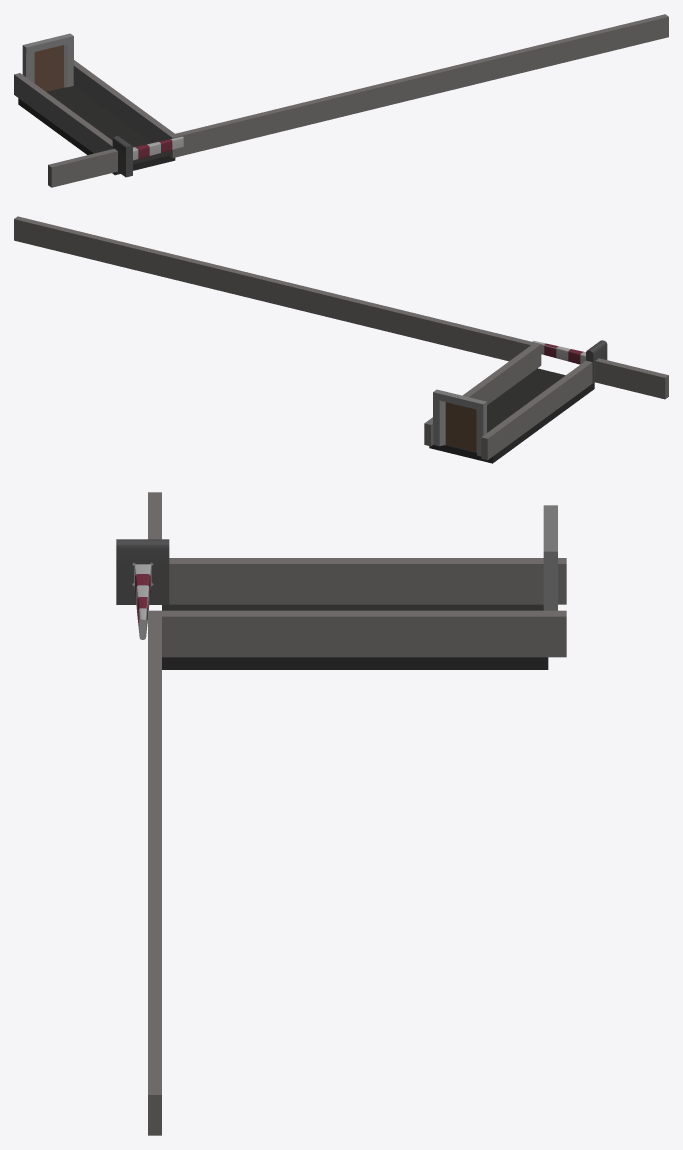
File: nextLevel.fbx
The picture shows the model from 3 angles, top to bottom: view 1: azimuth 30°, elevation 25°; view 2: azimuth 150°, elevation 25°; view 3: azimuth 270°, elevation 25°; orthographic projection. The views are drawn at different scales.
Parts seen in each view (by area): view 1: polySurface42, pCube1, pCube3, pCube2, polySurface797, polySurface795, NextStage3, NextStage4, polySurface798; view 2: polySurface42, pCube2, pCube1, pCube3, polySurface797, polySurface795, NextStage3, polySurface798, NextStage4; view 3: pCube3, pCube2, polySurface42, pCube1, NextStage4, NextStage3.
Part boxes in pixels (x1,y1,x2,y2): polySurface42: [48, 14, 668, 187]; pCube1: [18, 86, 175, 175]; pCube3: [73, 60, 178, 158]; pCube2: [14, 73, 112, 153]; polySurface797: [34, 45, 63, 91]; polySurface795: [22, 42, 73, 87]; NextStage3: [133, 136, 183, 160]; NextStage4: [112, 136, 132, 177]; polySurface798: [22, 33, 73, 53]; polySurface42: [14, 216, 668, 399]; pCube2: [481, 360, 592, 460]; pCube1: [429, 368, 594, 463]; pCube3: [424, 342, 541, 446]; polySurface797: [445, 402, 476, 452]; polySurface795: [433, 399, 486, 456]; NextStage3: [532, 340, 585, 364]; polySurface798: [433, 389, 486, 410]; NextStage4: [586, 340, 607, 383]; pCube3: [148, 610, 566, 657]; pCube2: [151, 558, 566, 604]; polySurface42: [148, 492, 161, 1135]; pCube1: [162, 604, 548, 669]; NextStage4: [116, 539, 169, 604]; NextStage3: [134, 564, 151, 639].
Bounding box in the file's own units: 100 × 8.7 × 31.6.
